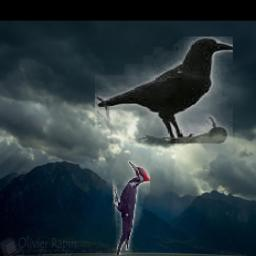Crow: (96, 37, 234, 143)
Woodpecker: (113, 161, 150, 256)
